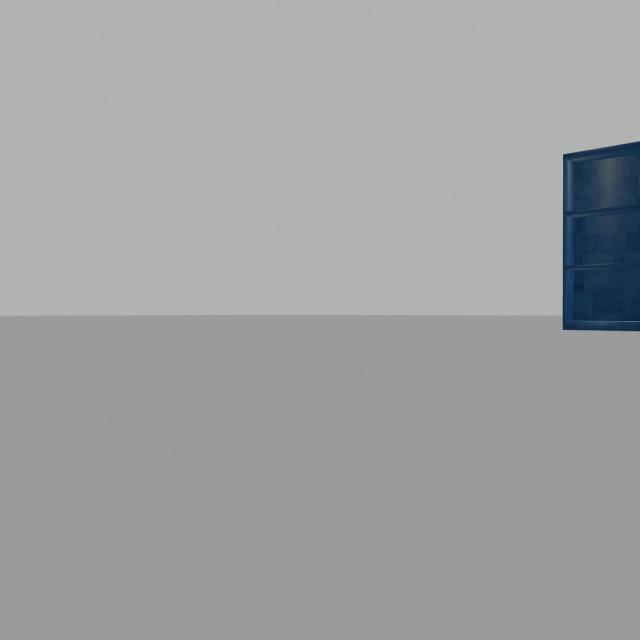shelf: (555, 129, 640, 345)
